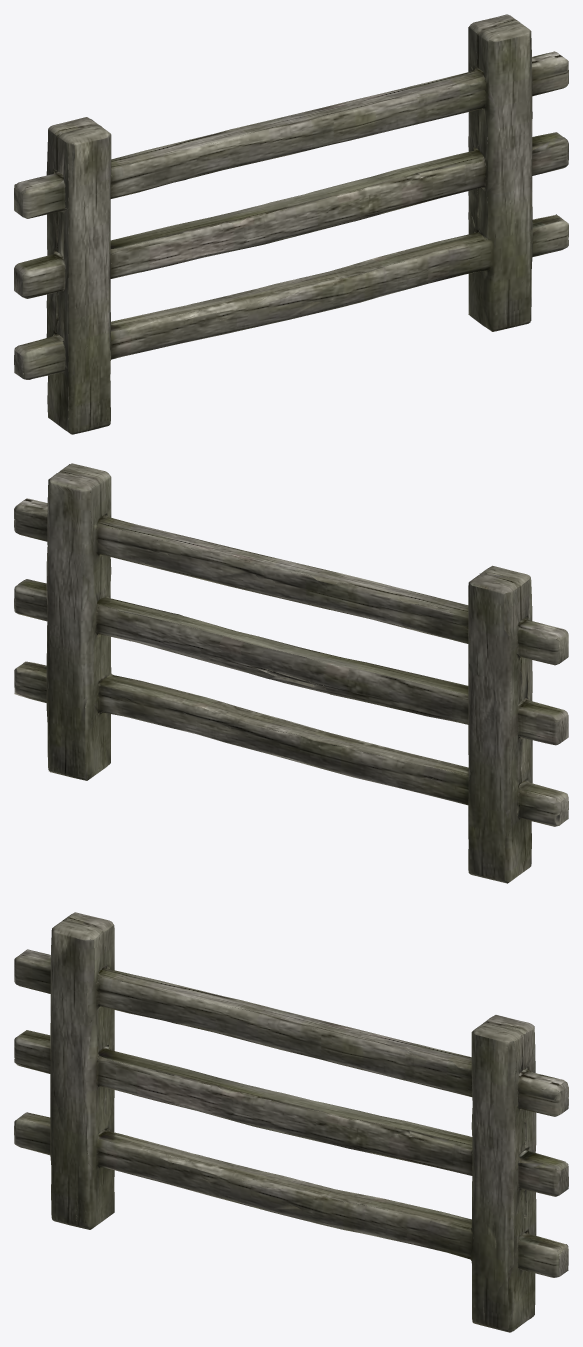
Rendered from yard-fence-straight.glb.
The picture shows the model from 3 angles, top to bottom: view 1: azimuth 30°, elevation 25°; view 2: azimuth 150°, elevation 25°; view 3: azimuth 330°, elevation 25°; orthographic projection.
Parts seen in each view (by area): view 1: Mesh_0; view 2: Mesh_0; view 3: Mesh_0.
Boxes of the visible parts, bbox=[...] form: Mesh_0: bbox=[14, 14, 568, 434]; Mesh_0: bbox=[14, 463, 568, 883]; Mesh_0: bbox=[14, 912, 568, 1332].
Bounding box in the file's own units: 1.9 × 0.9798 × 0.1566.
1 material, 1 textured.
